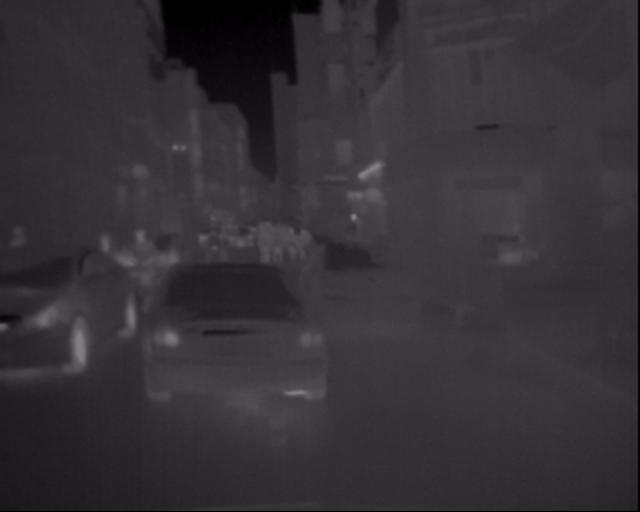person: (124, 226, 156, 306), (249, 219, 307, 263)
